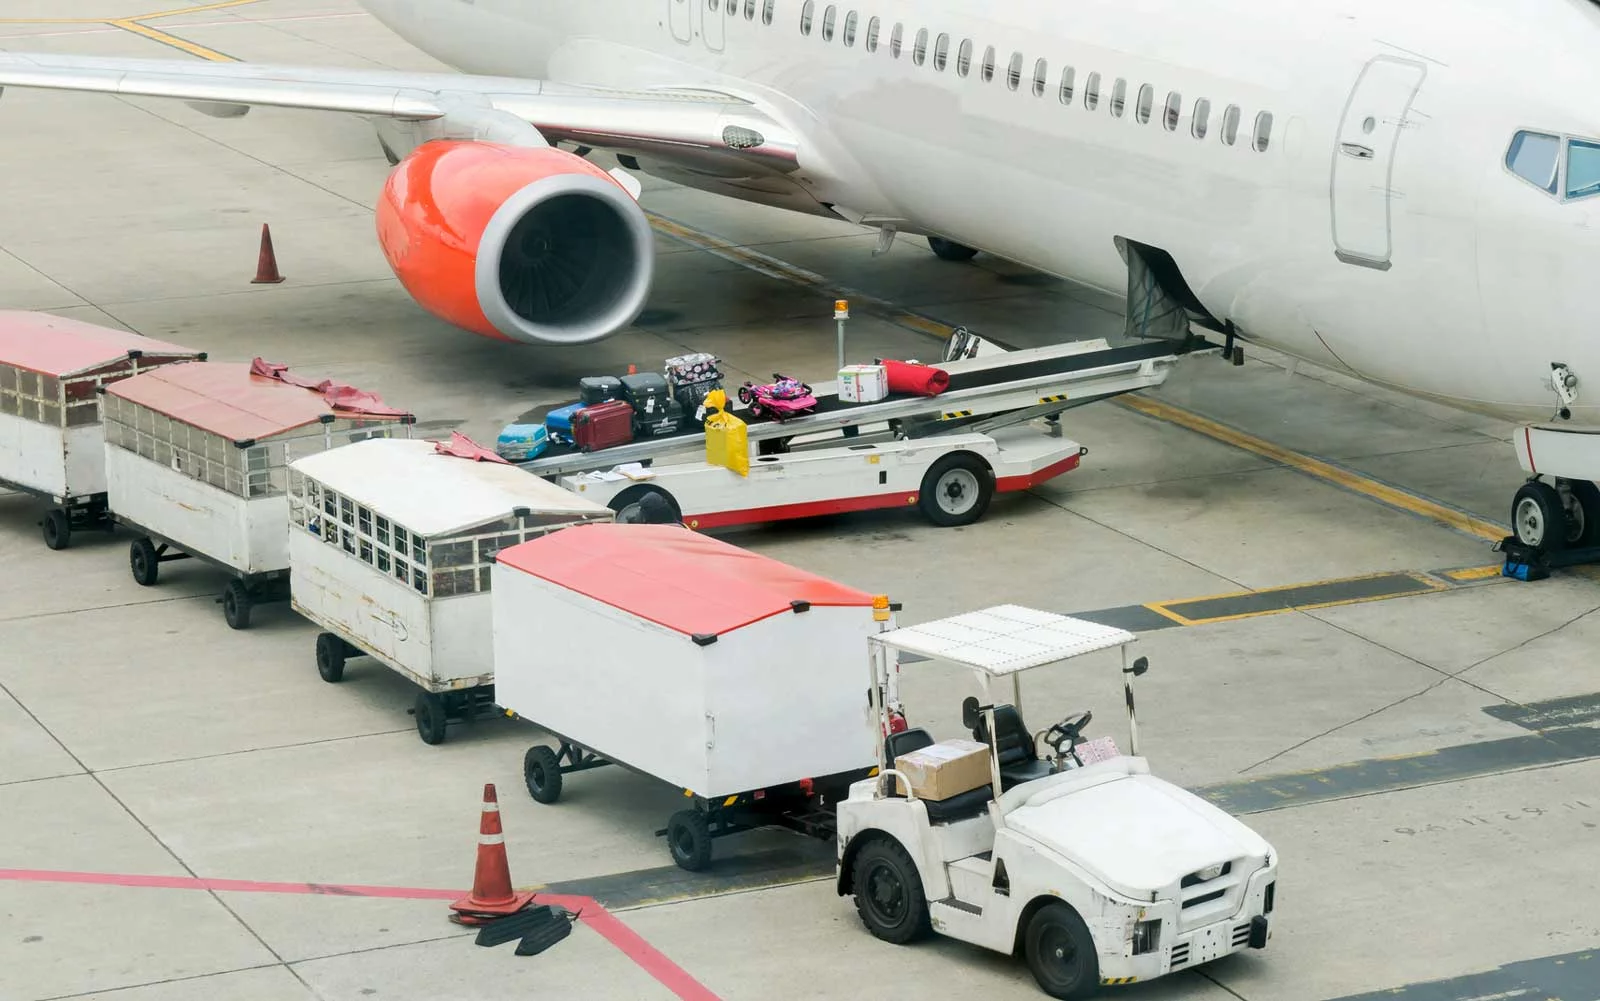baggagetruck: (472, 319, 1257, 567)
